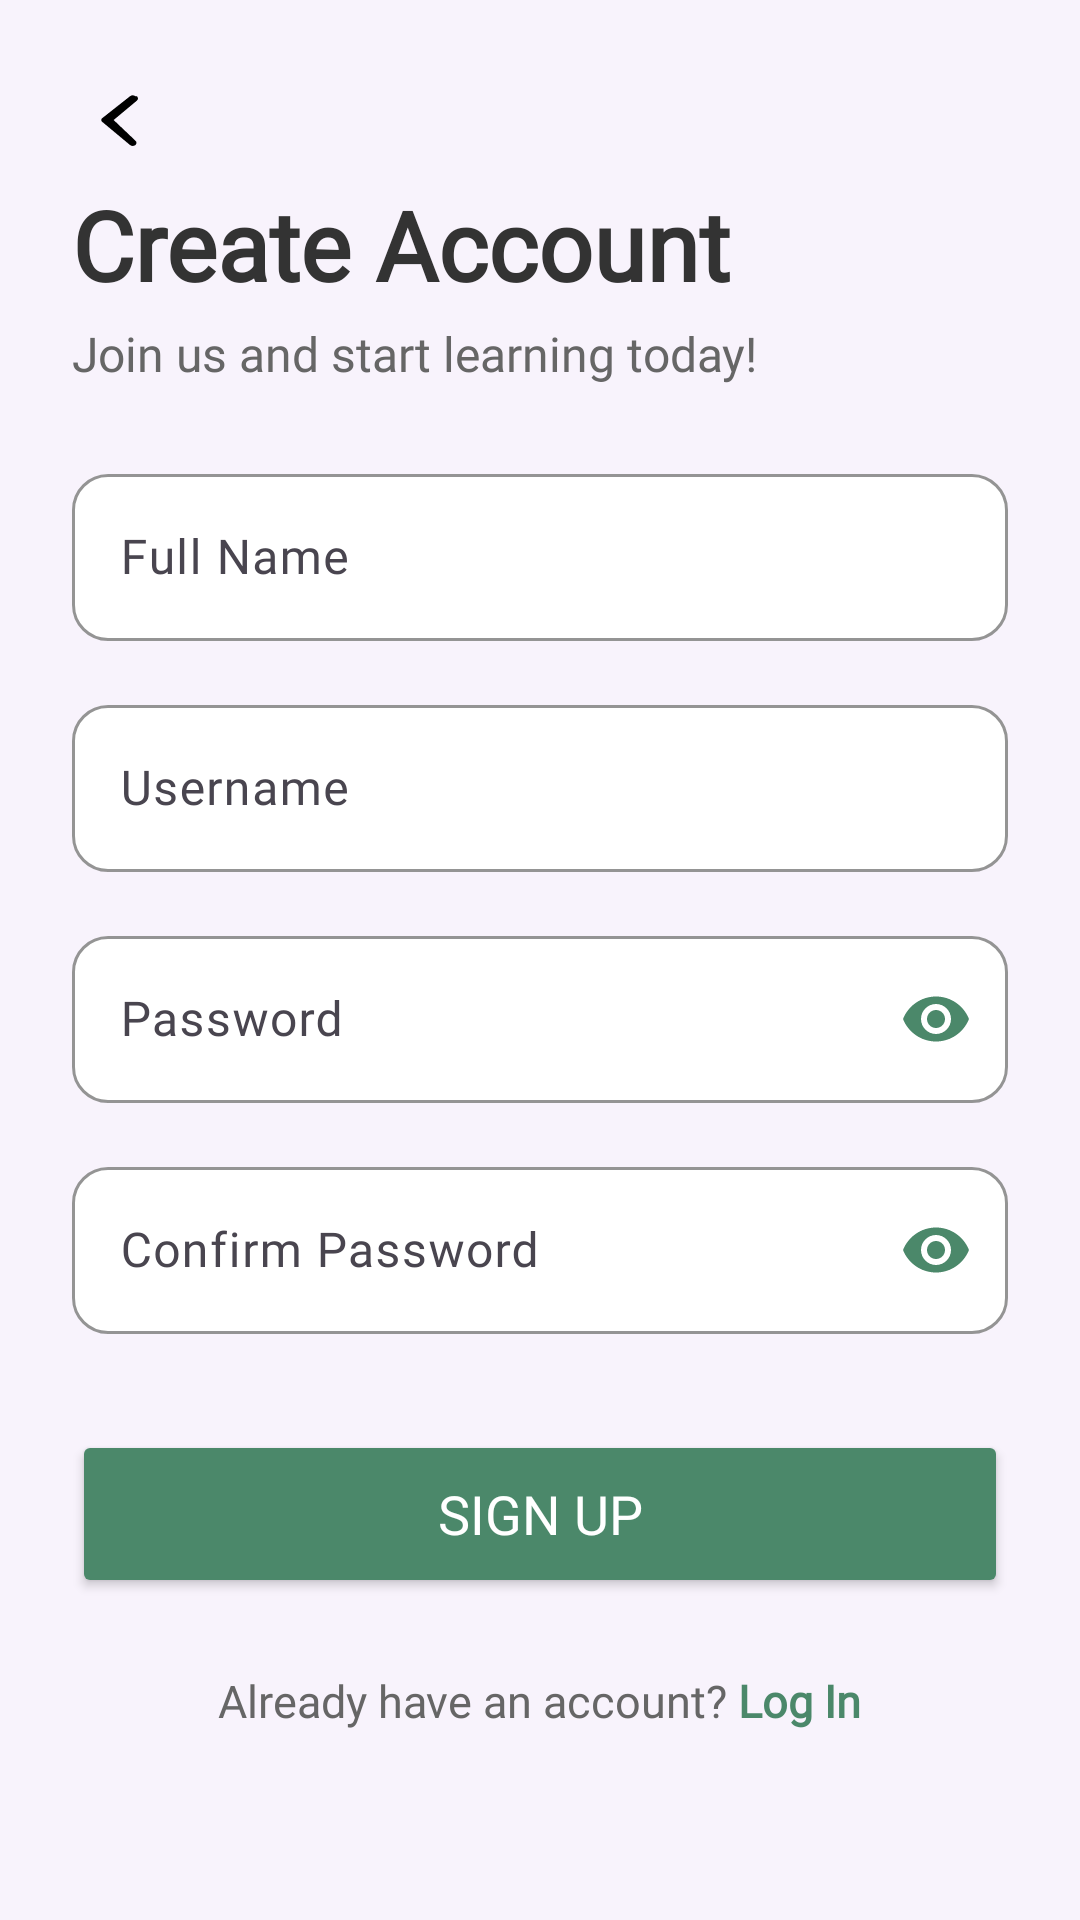

Screen size 1080px×1920px. Icon name, then its center in pixels as point (x, y):
Go Back: point (119, 120)
